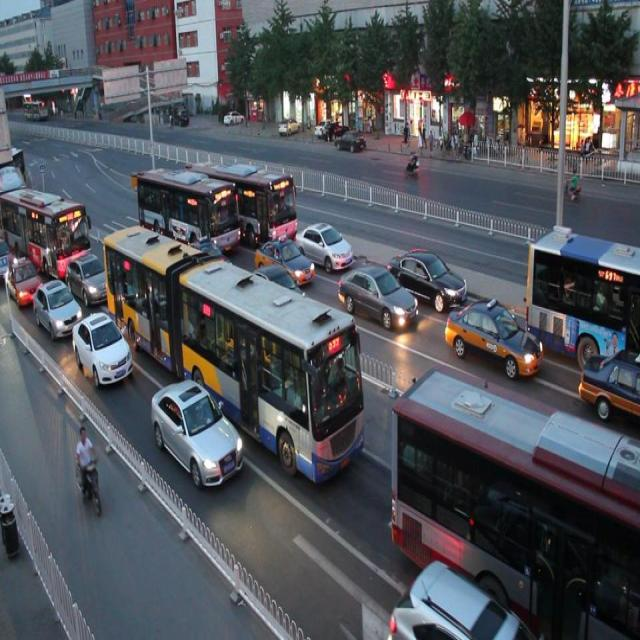car: (389, 557, 532, 640), (150, 375, 246, 487), (446, 294, 544, 382), (337, 258, 416, 331), (390, 243, 468, 309), (72, 312, 134, 387), (578, 346, 640, 421), (245, 263, 313, 330), (253, 230, 314, 289), (294, 214, 352, 273), (32, 273, 81, 340), (181, 236, 238, 291), (66, 252, 113, 307), (0, 250, 42, 307)
van: (102, 218, 366, 482), (391, 364, 640, 640), (524, 225, 640, 360), (136, 160, 240, 262), (191, 153, 298, 248), (1, 182, 90, 272)
